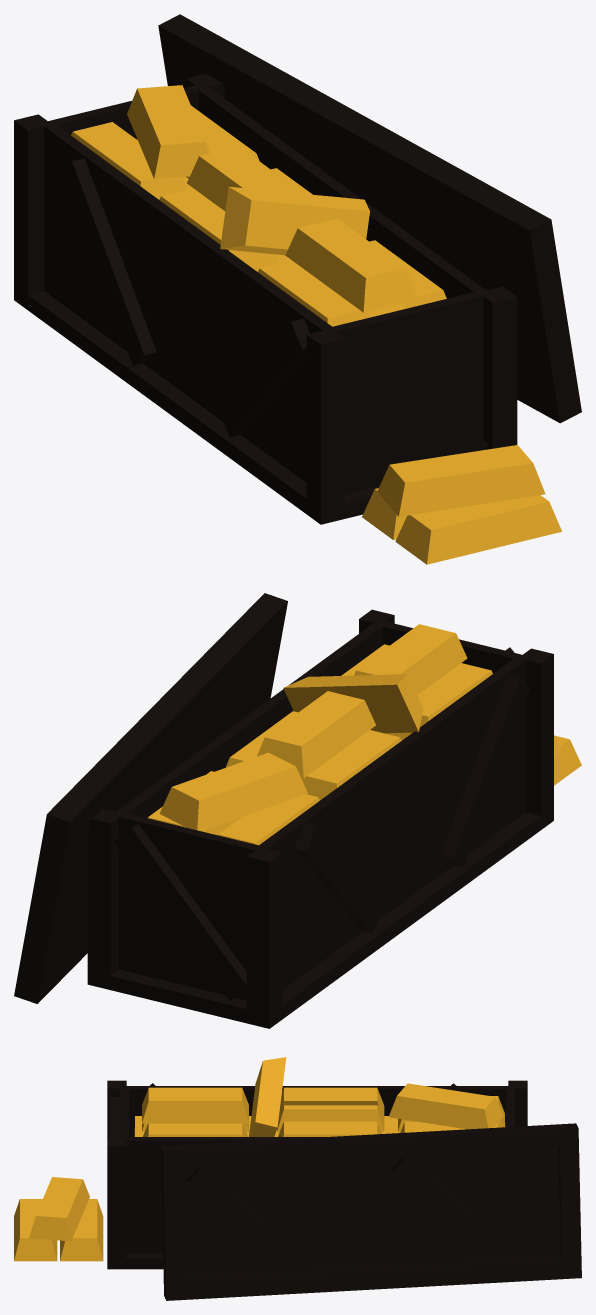
The model's file is Crate Gold.FBX.
3 views of the same model, one above another, from view 1: azimuth 30°, elevation 25°; view 2: azimuth 150°, elevation 25°; view 3: azimuth 270°, elevation 25° (orthographic). The views are drawn at different scales.
Visible parts, largest first — view 1: Box154; view 2: Box154; view 3: Box154.
Part boxes in pixels (box(x1,y1,x2,y2)): Box154: box(14, 14, 581, 564); Box154: box(14, 593, 581, 1028); Box154: box(14, 1057, 581, 1300).
Size of the model in its own units: 9.35 by 6.84 by 22.05.
